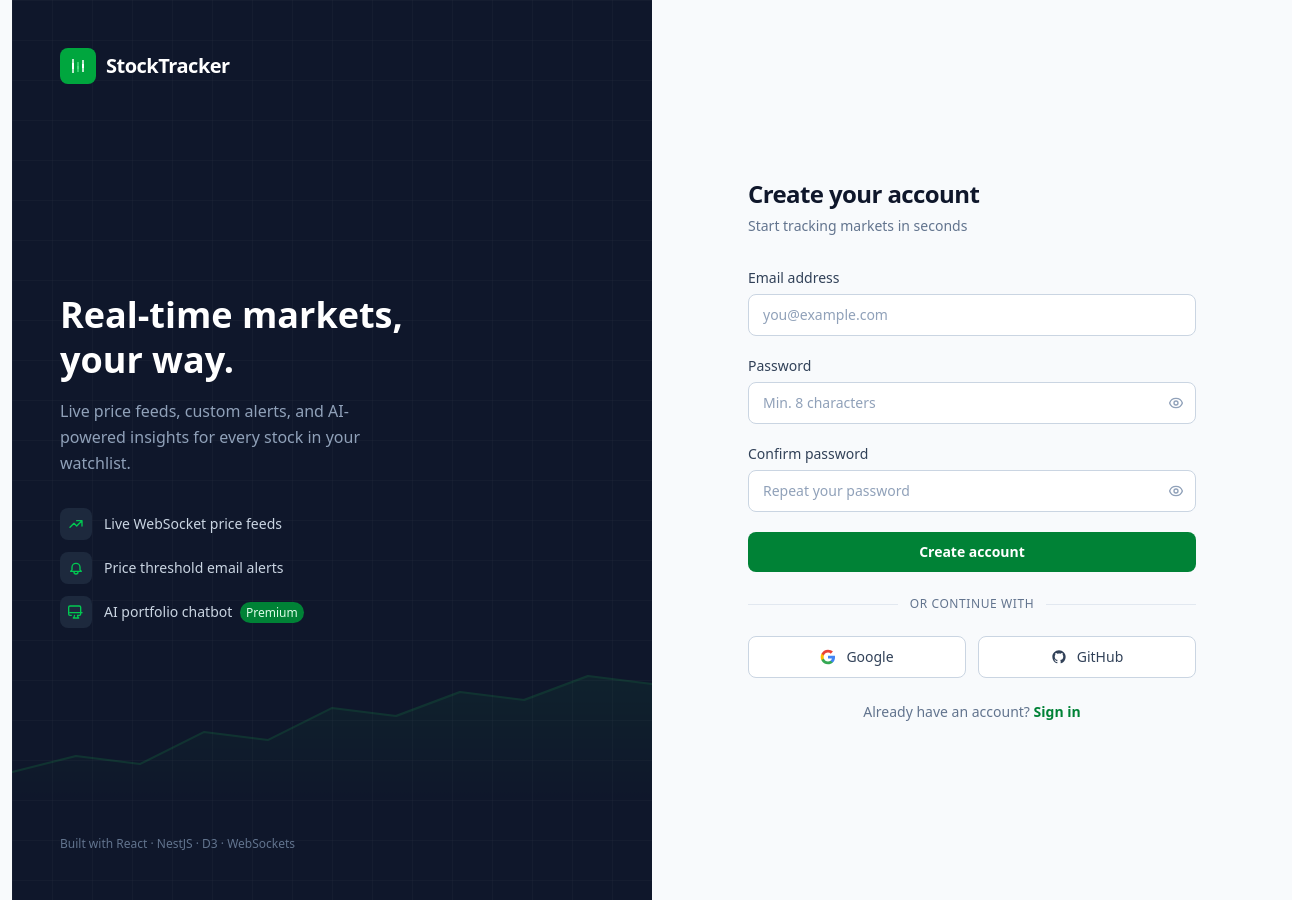
Test case: RegisterPage › validation › shows passwords do not match error
In the field labelled "Email address": (972, 315) x1=748 y1=294 x2=1196 y2=336, type "user@test.com"
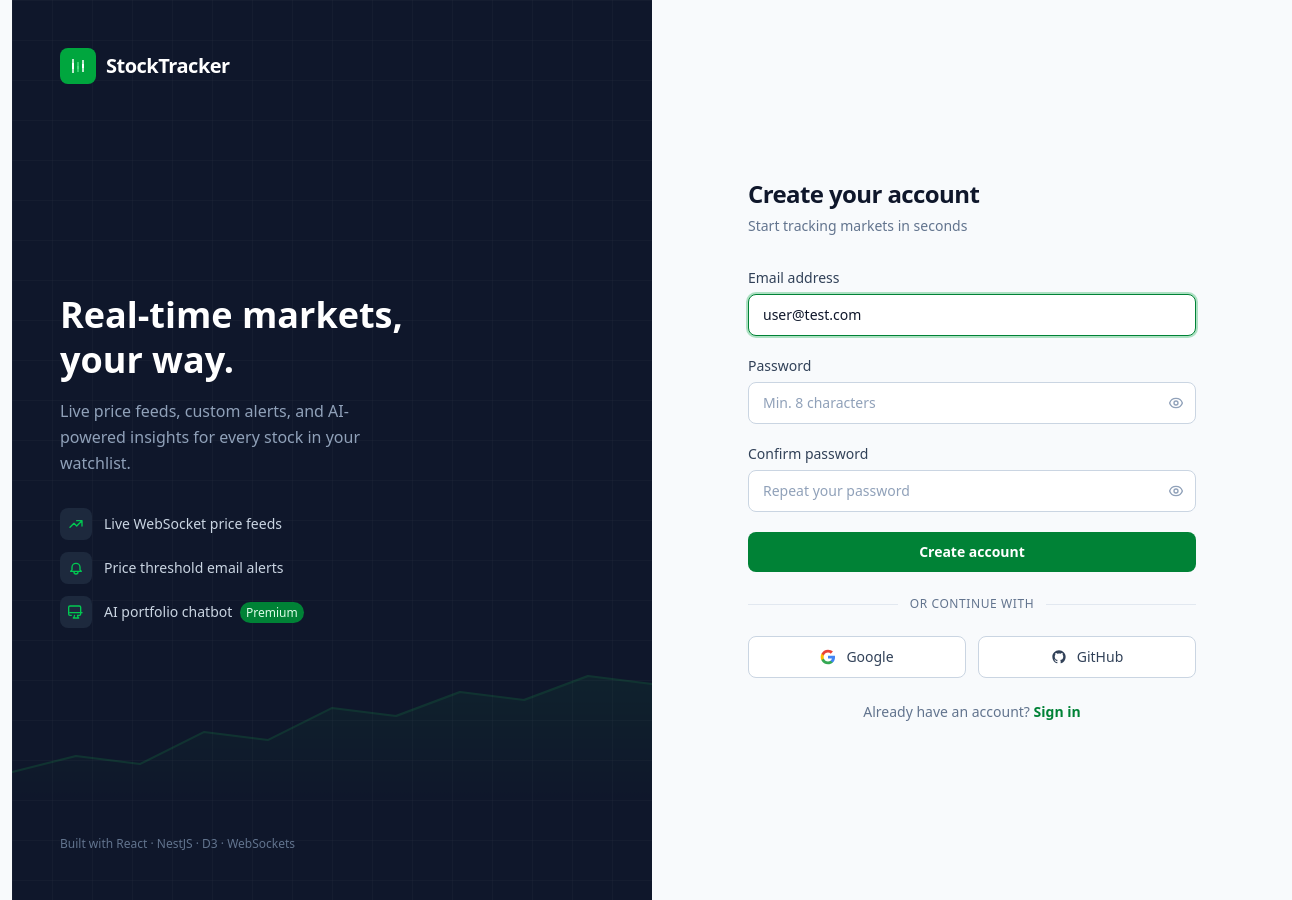
In the password field labelled "Password": (972, 403) x1=748 y1=382 x2=1196 y2=424, type "Password123!"
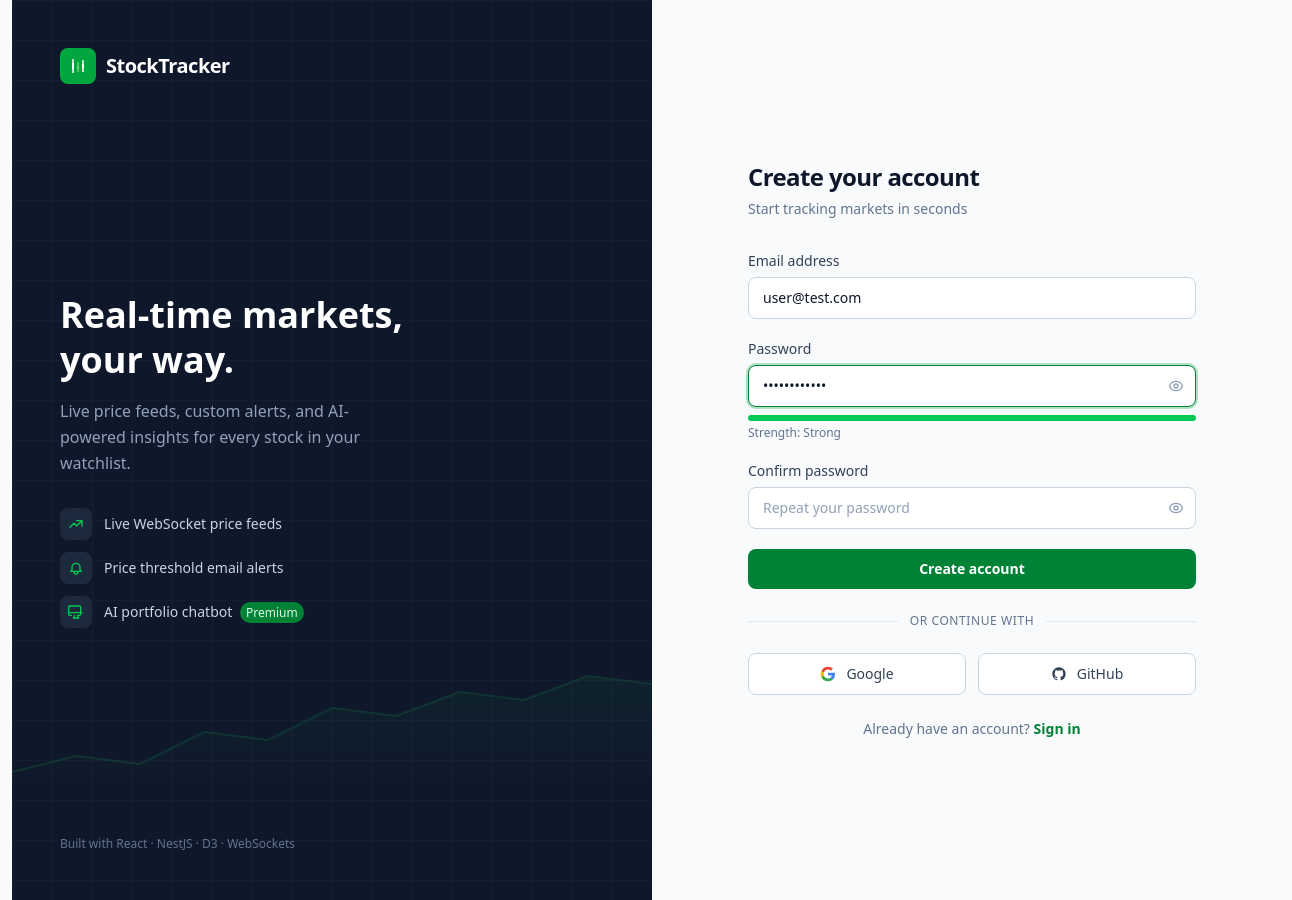
In the password field labelled "Confirm password": (972, 508) x1=748 y1=487 x2=1196 y2=529, type "DifferentPass!"
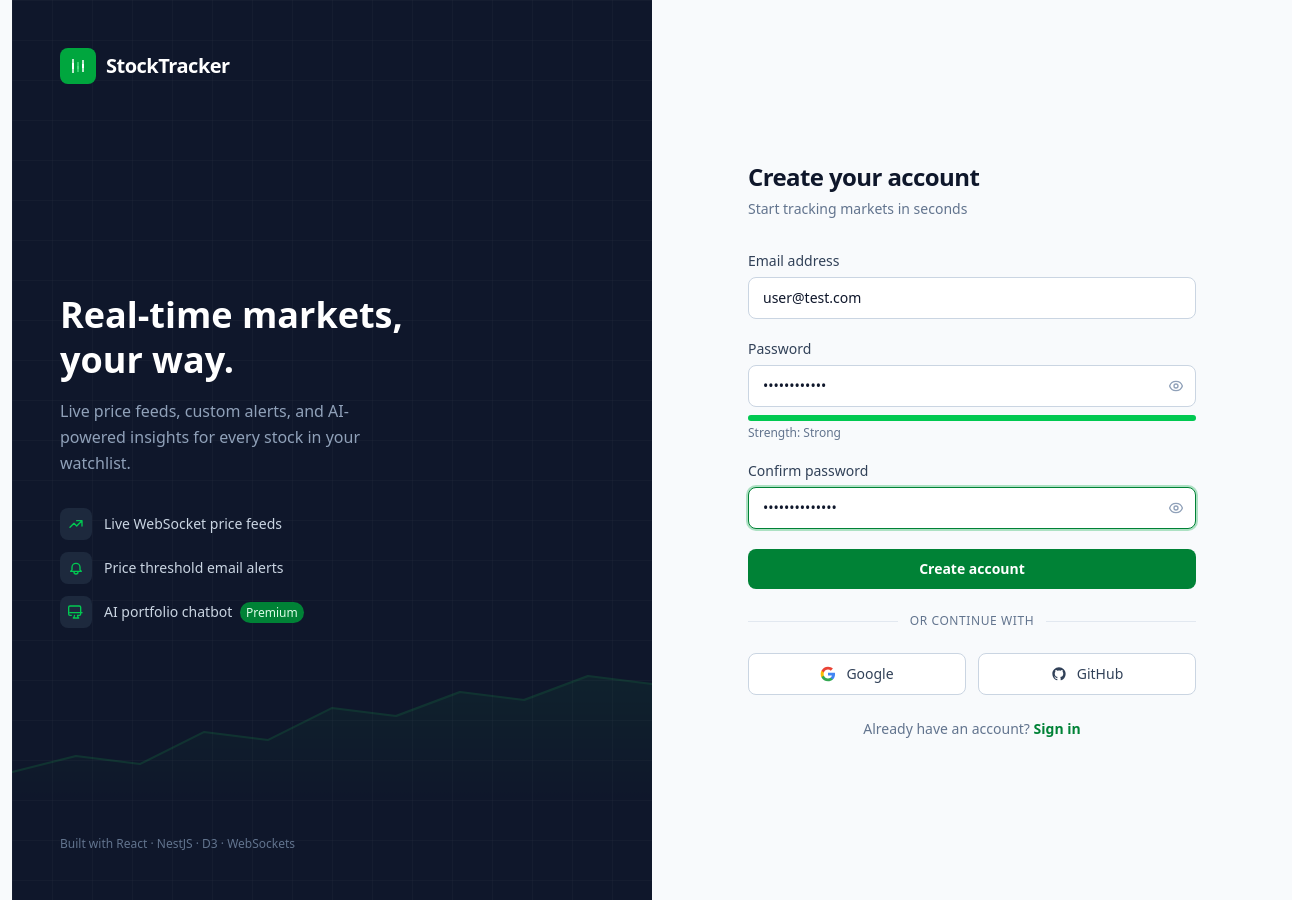
Click the button "Create account": (972, 569) x1=748 y1=549 x2=1196 y2=589
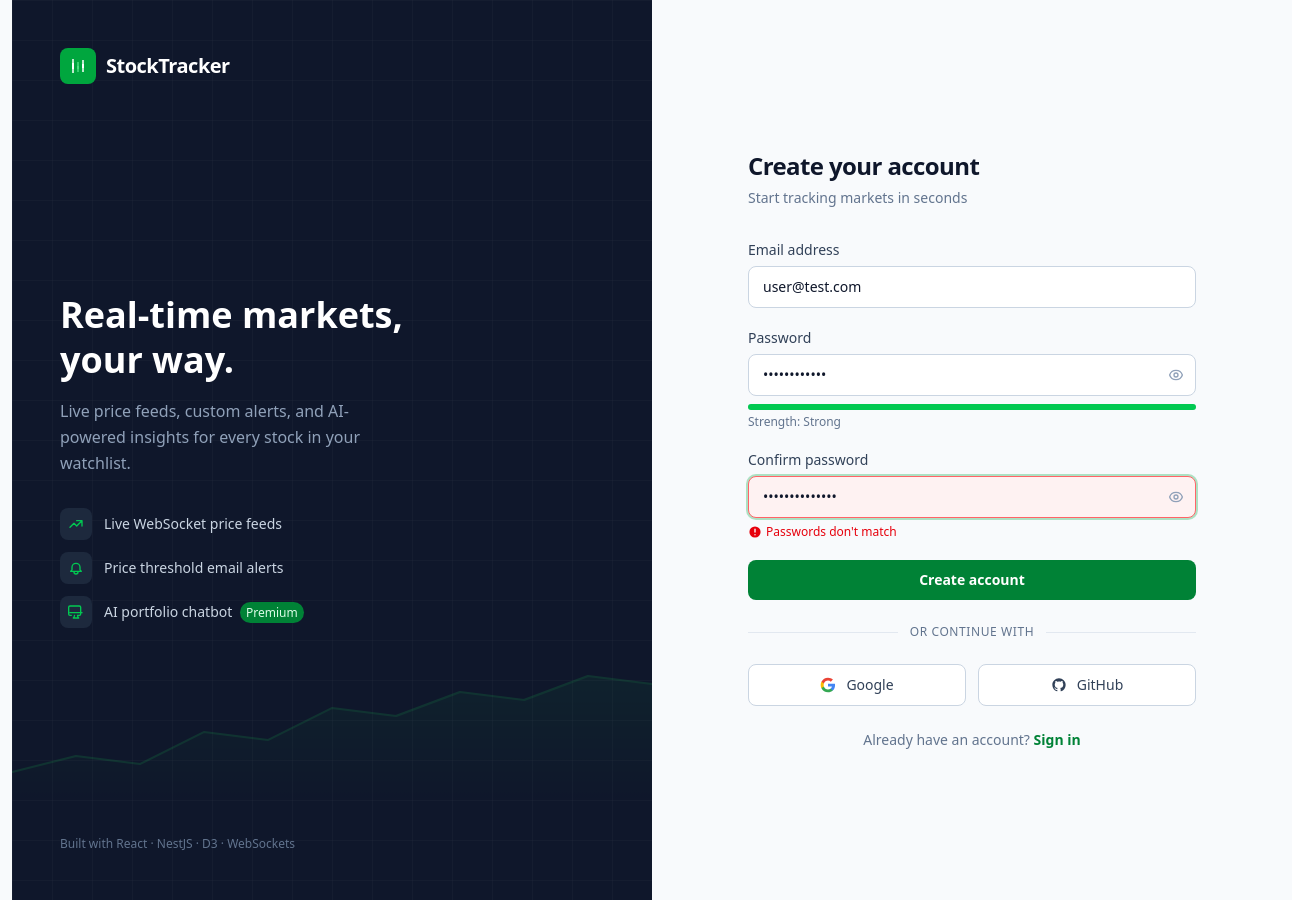
Check: the text "Passwords don't match" is shown, box x1=748 y1=523 x2=897 y2=540
